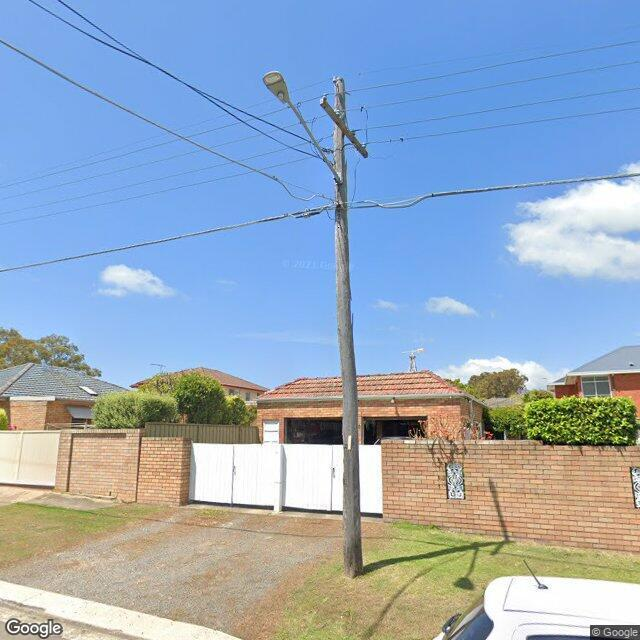crossarm: (319, 96, 369, 159)
streetlight: (262, 70, 342, 186)
timber-pole: (333, 78, 363, 578)
